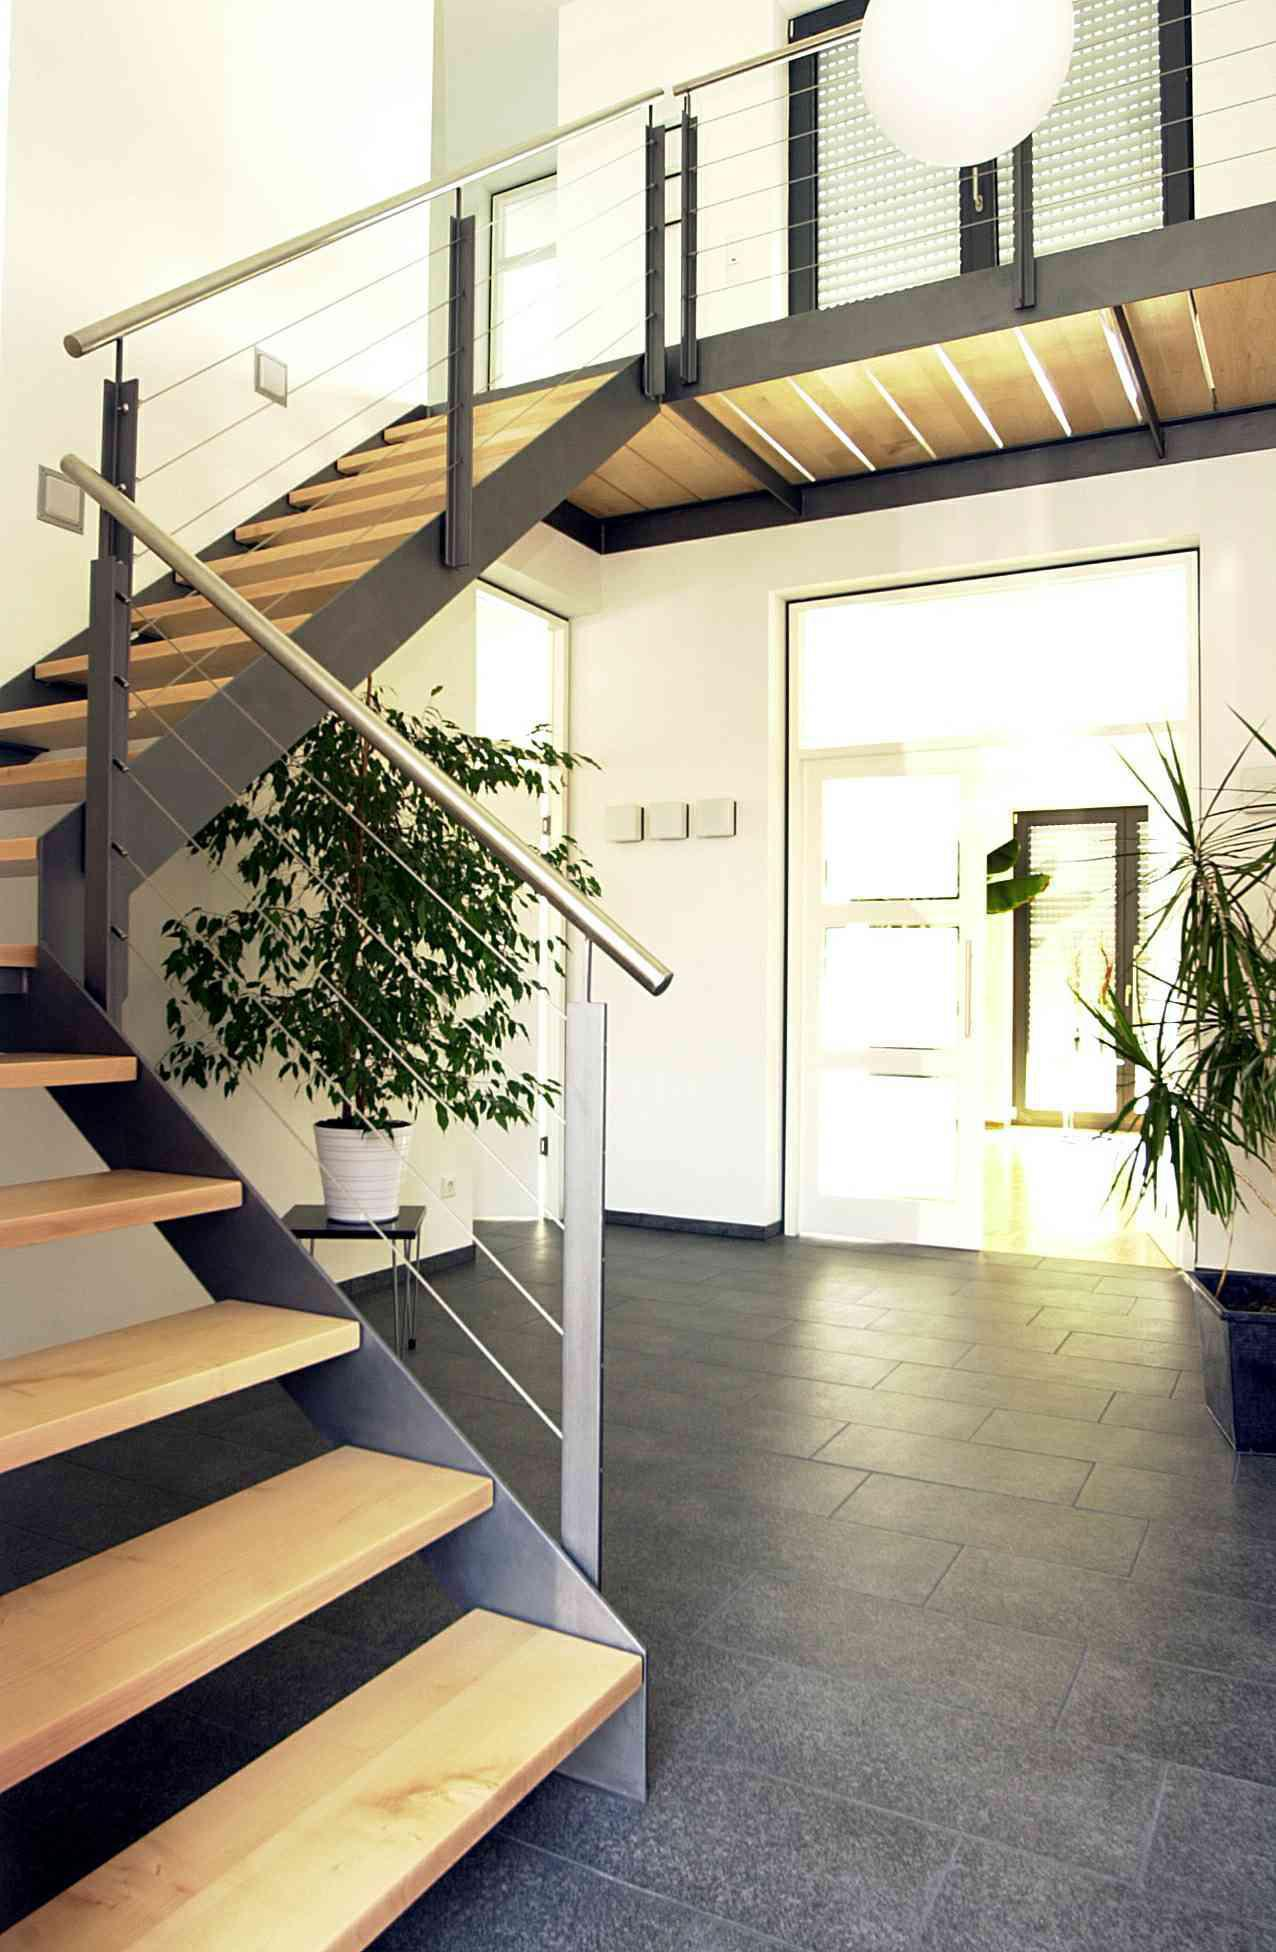Escaleras: (17, 943, 635, 1922), (17, 83, 654, 923)
Matera: (216, 700, 553, 1227), (1124, 760, 1265, 1458)
